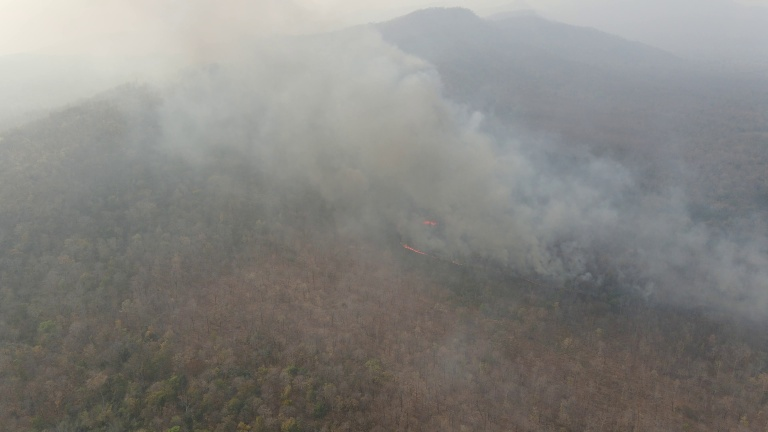fire: (401, 243, 429, 258), (420, 215, 441, 226)
smoke: (122, 2, 640, 285)
